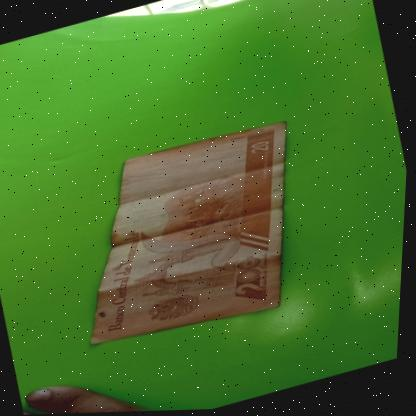twenty-front-vef: (49, 115, 332, 361)
